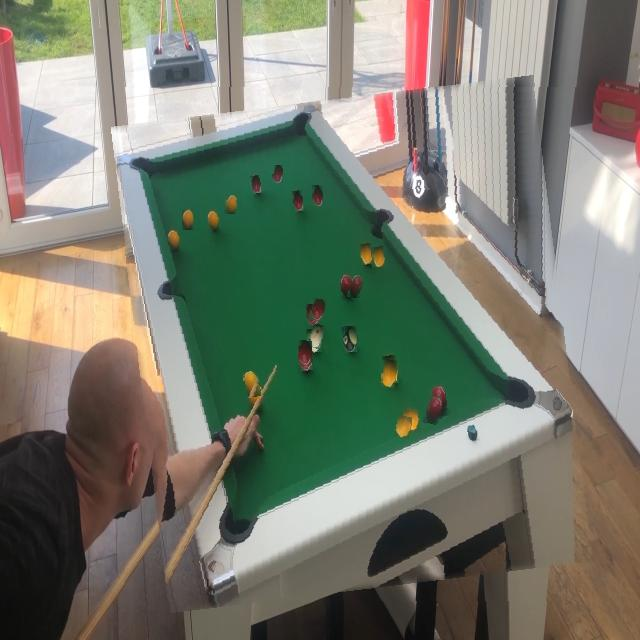Ball: (425, 396, 442, 424), (244, 371, 261, 398), (382, 360, 397, 388), (395, 416, 412, 439), (346, 326, 360, 352), (309, 324, 324, 348), (311, 299, 327, 321), (349, 275, 363, 298), (300, 340, 312, 365), (183, 209, 196, 230), (373, 246, 385, 267), (313, 185, 323, 206), (226, 195, 237, 214), (273, 165, 284, 183)
Billiard table: (126, 87, 580, 601)
